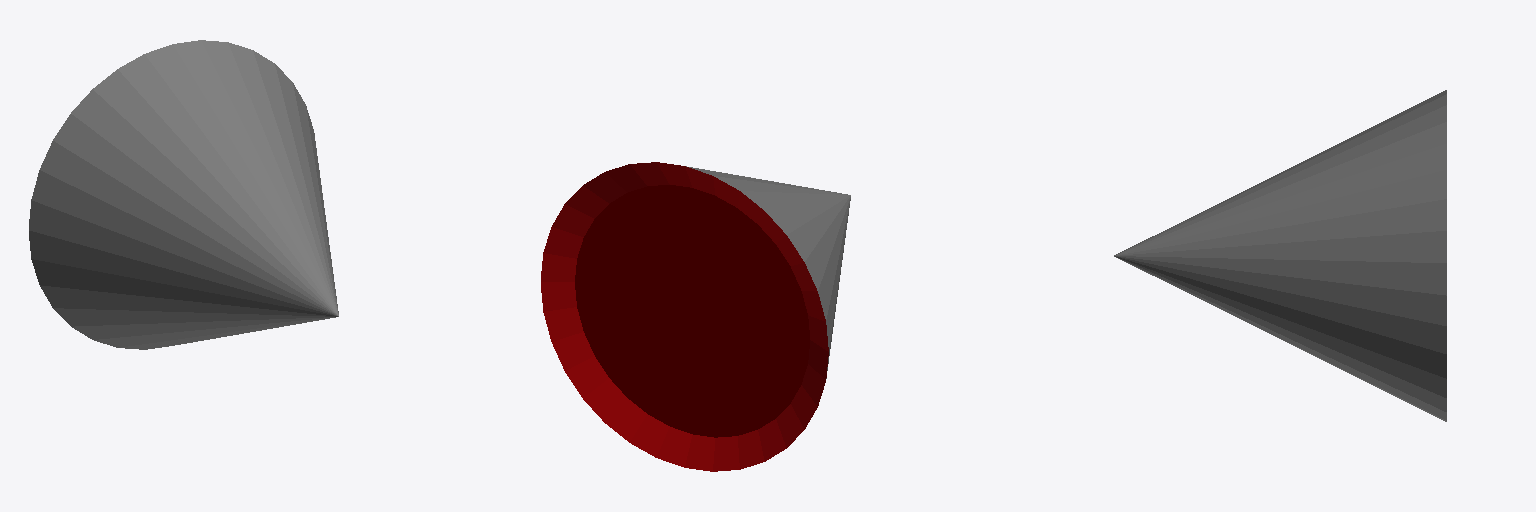
The model's file is redirector.obj.
3 renders of one model, left to right at view 1: azimuth 30°, elevation 25°; view 2: azimuth 150°, elevation 25°; view 3: azimuth 270°, elevation 25°, orthographic.
Parts seen in each view (by area): view 1: Cone; view 2: Cone; view 3: Cone.
Boxes of the visible parts, box(x1,y1,x2,y2) form: Cone: box(29, 40, 338, 349); Cone: box(541, 162, 850, 471); Cone: box(1114, 90, 1446, 421).
Bounding box in the file's own units: 2 × 2 × 2.